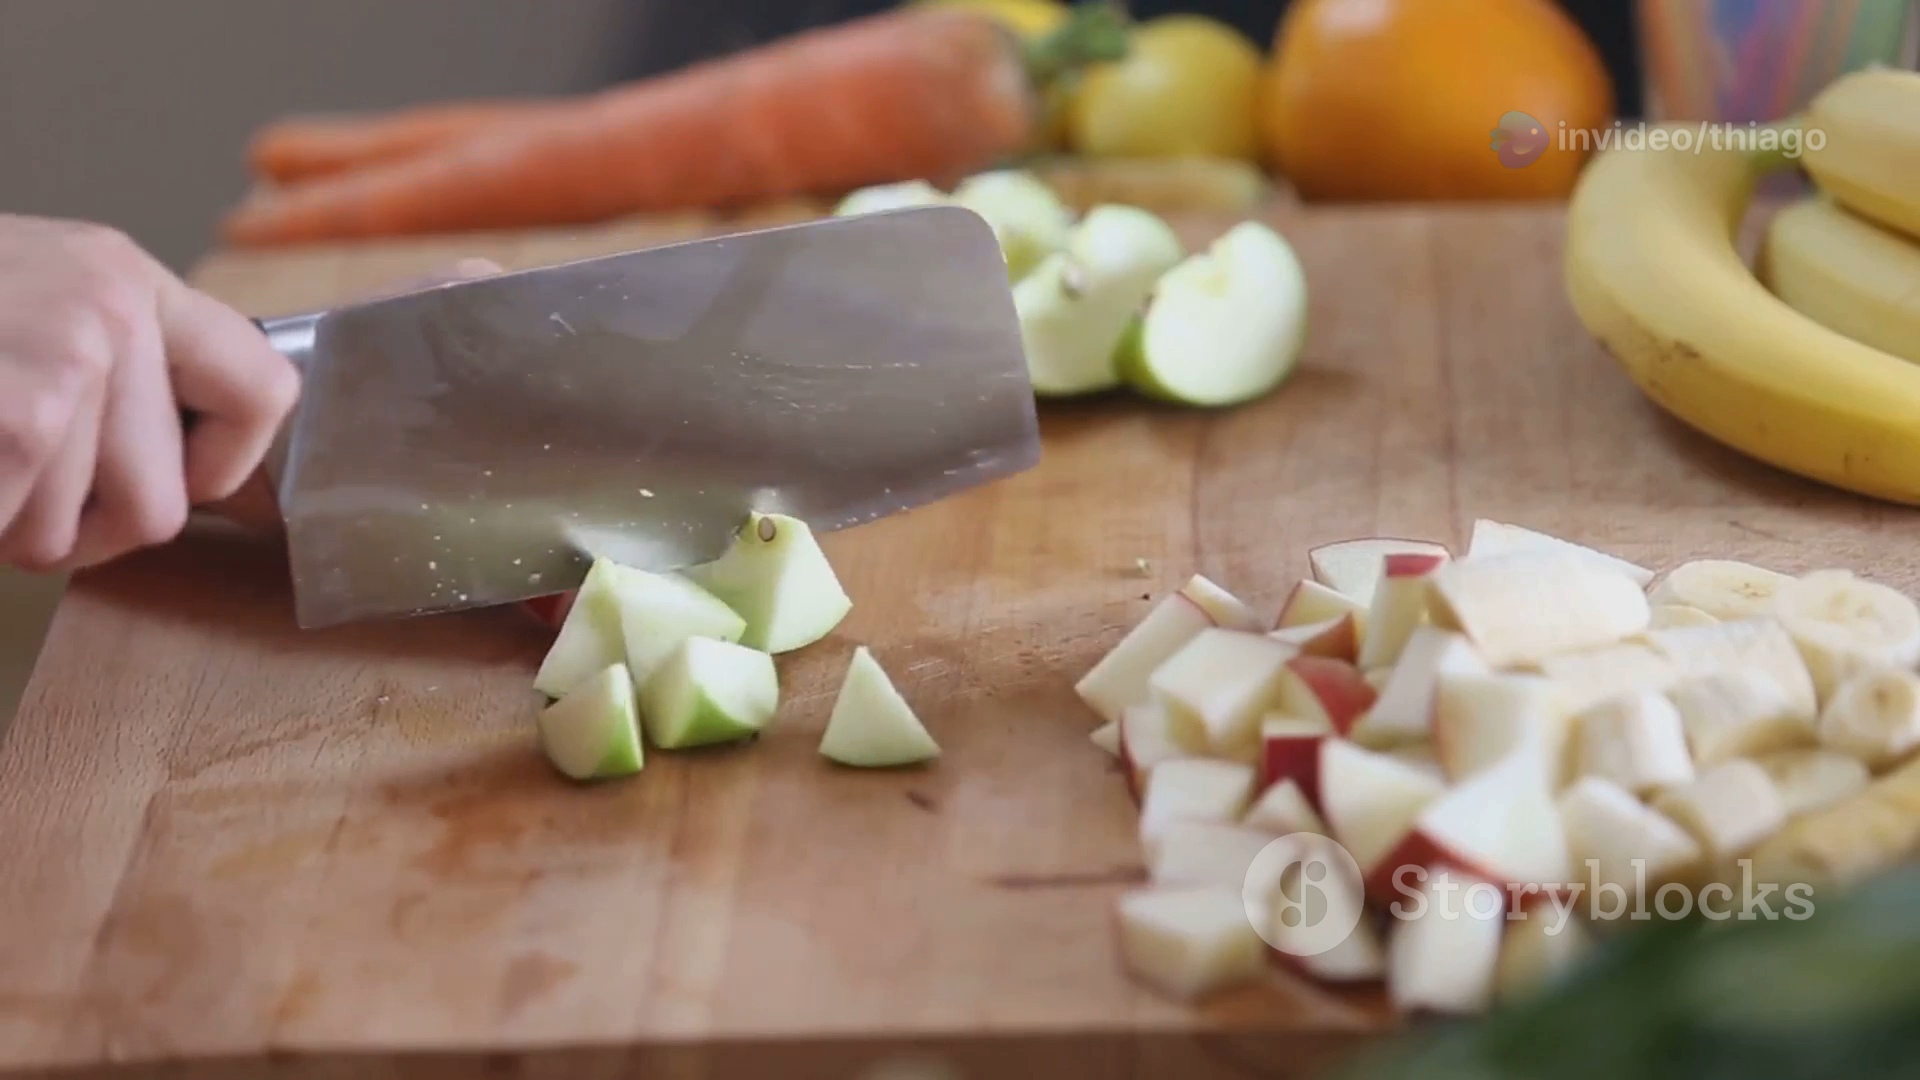cortante: (248, 207, 1040, 629)
